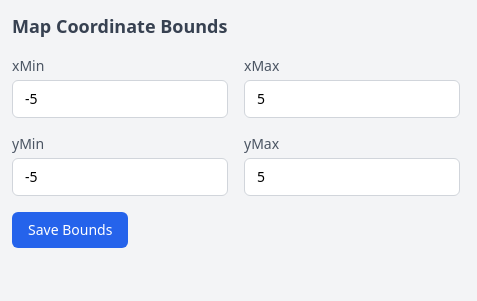
Test case: MapConfigForm › shows success message after save
Click the button "Save Bounds" at (70, 230), box left=12, top=212, right=128, bottom=248
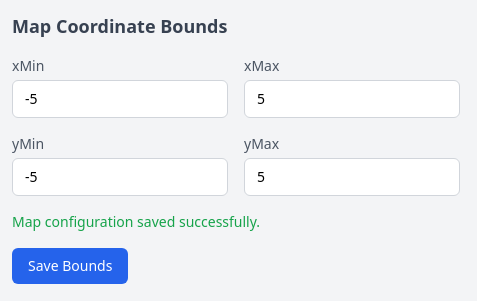
expect the message reads "Map configuration saved successfully.": met, box left=12, top=212, right=260, bottom=231
